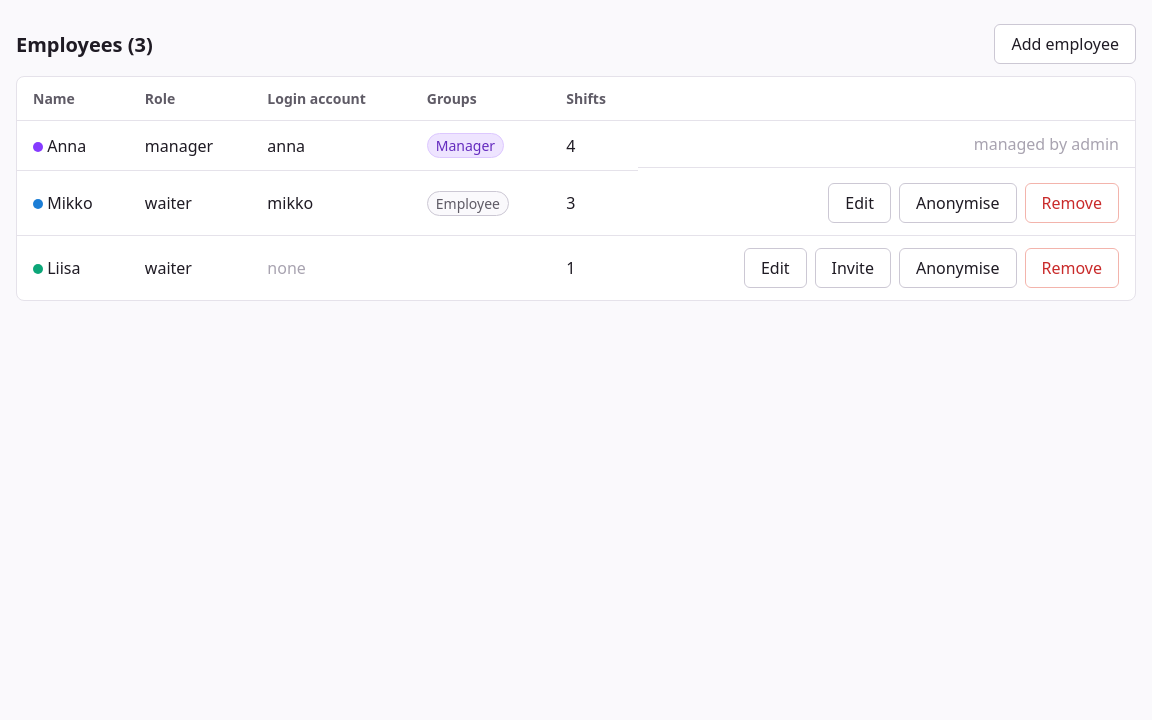
Test: shows the backend error when adding fails
Click the button "Add employee" at (1065, 44), box [994,24,1136,64]
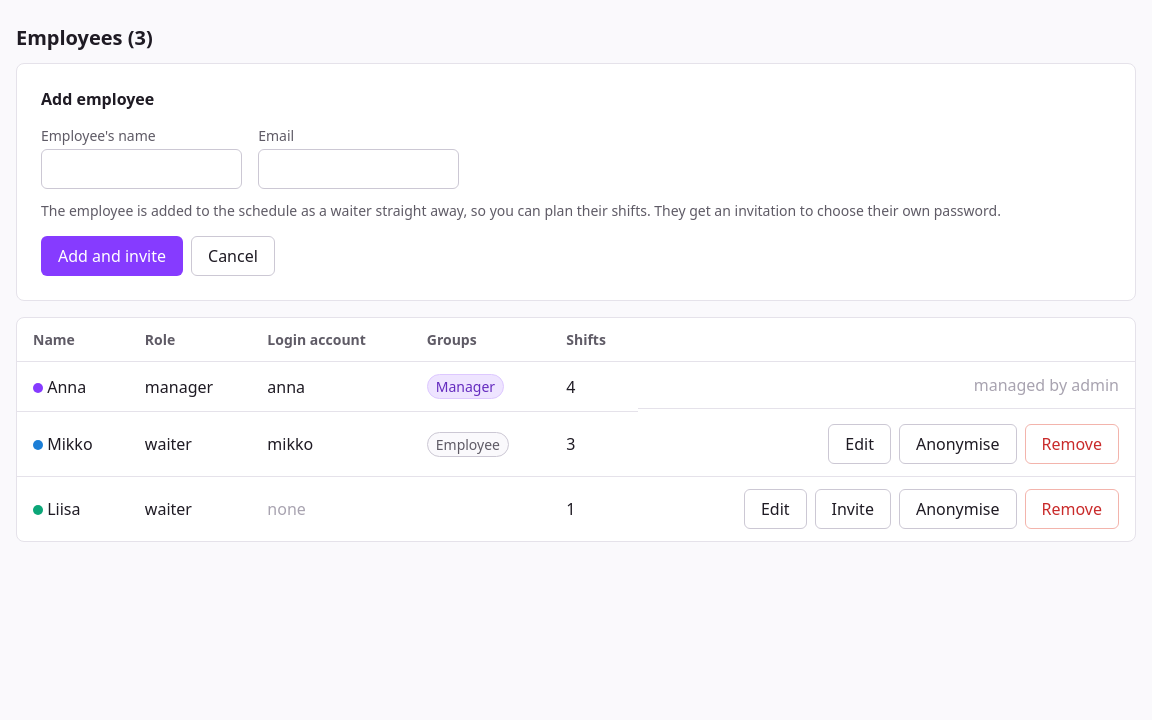
Type "Kalle" into the field labelled "Employee's name" at (142, 169), box [41,149,242,189]
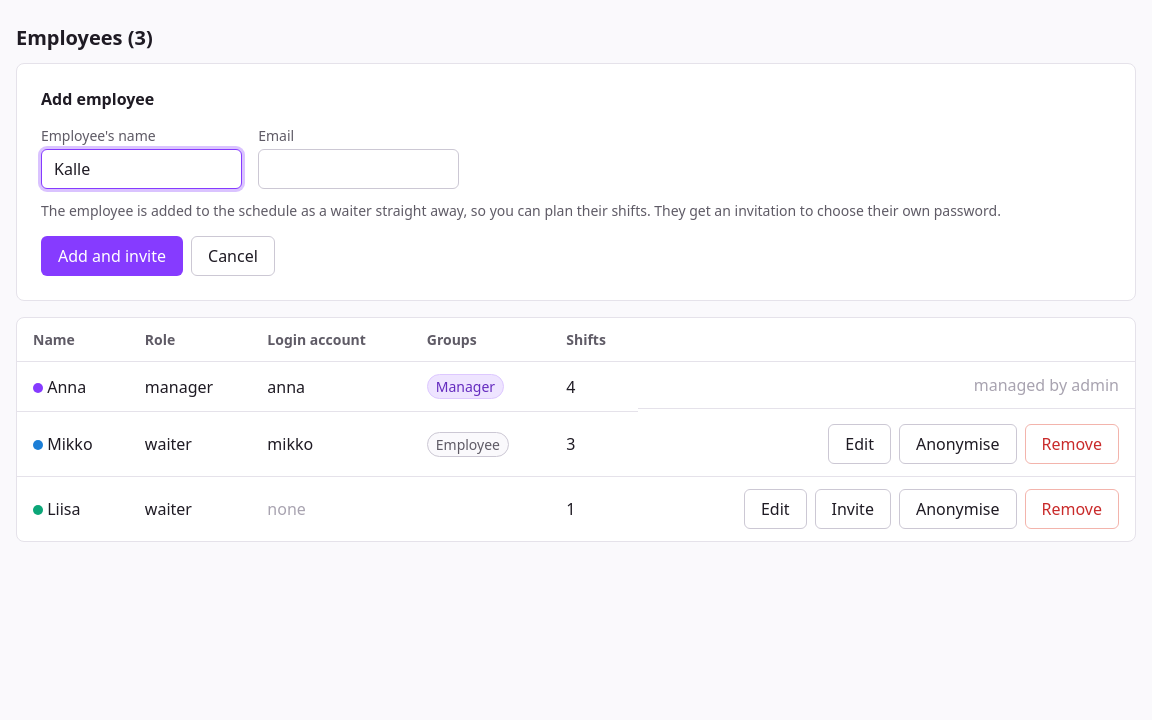
Type "kalle@example.com" into the field labelled "Email" at (359, 169), box [258,149,459,189]
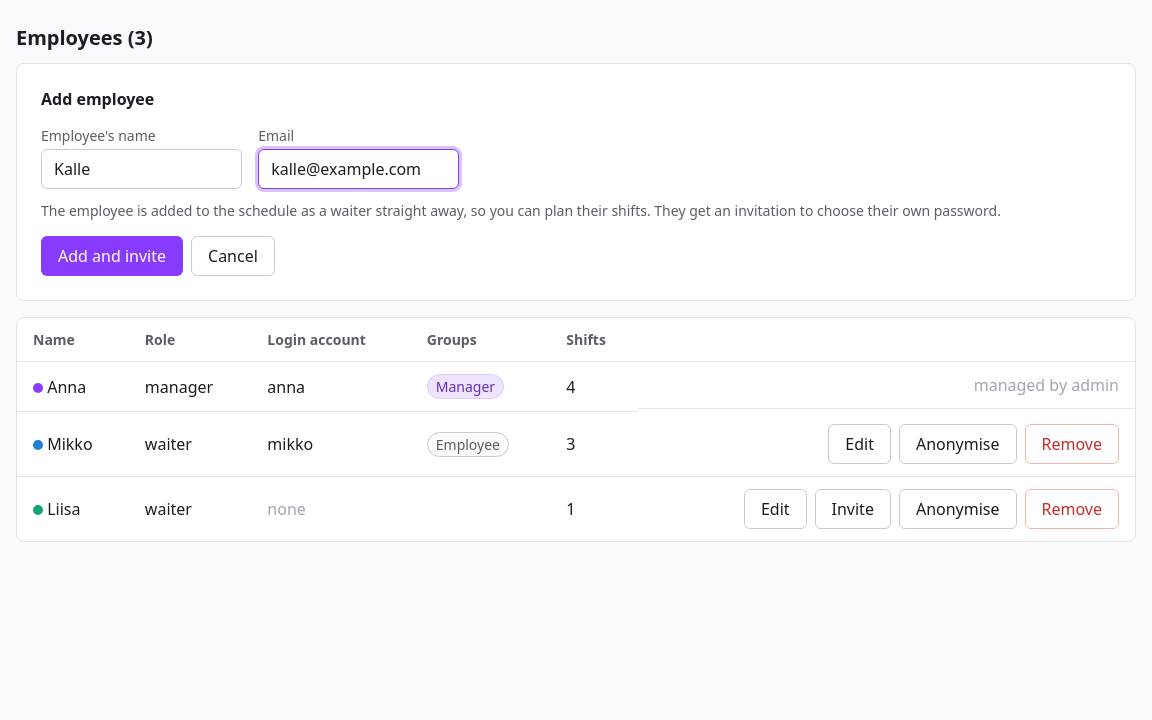
Click the button "Add and invite" at (112, 256), box [41,236,183,276]
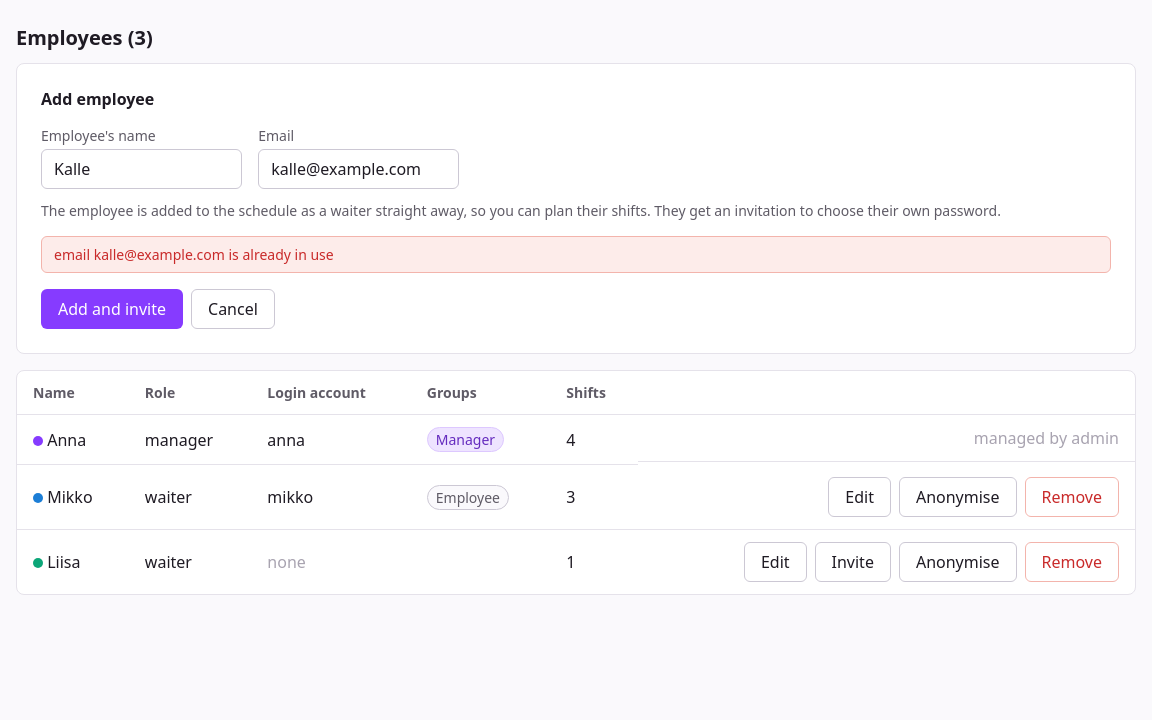
Expected: the message reads "email kalle@example.com is already in use", [54,245,334,264]
